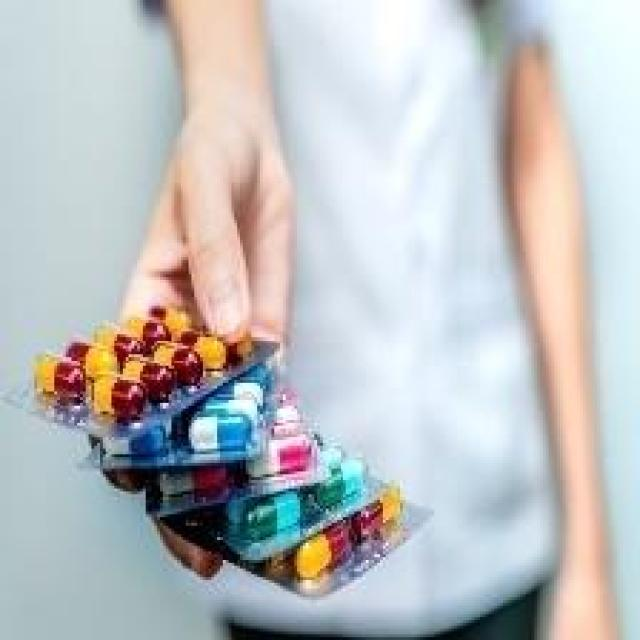Medicine: (8, 144, 415, 606)
